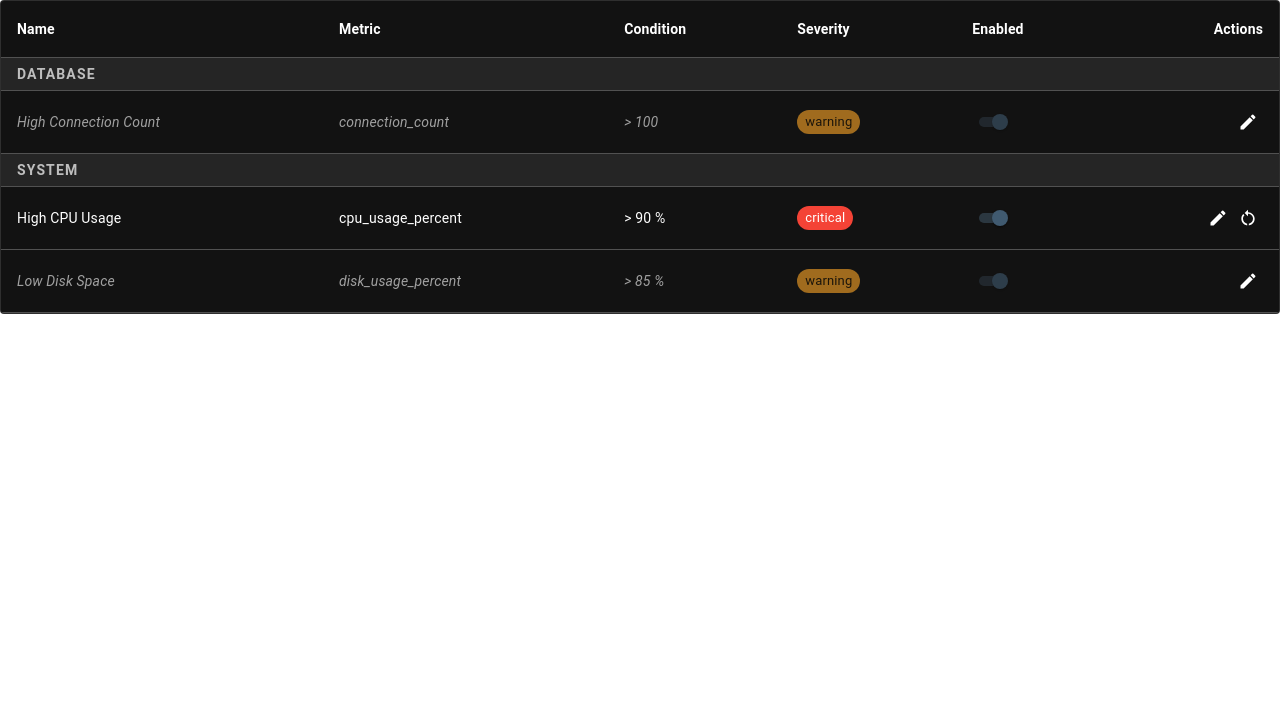
Test: AlertOverridesPanel › edit button opens dialog with pre-populated values
Check: the text "High CPU Usage" is shown, box [1, 186, 323, 250]
Click the button named "edit override" in the row of "High CPU Usage": [1218, 218] box [1203, 203, 1233, 233]
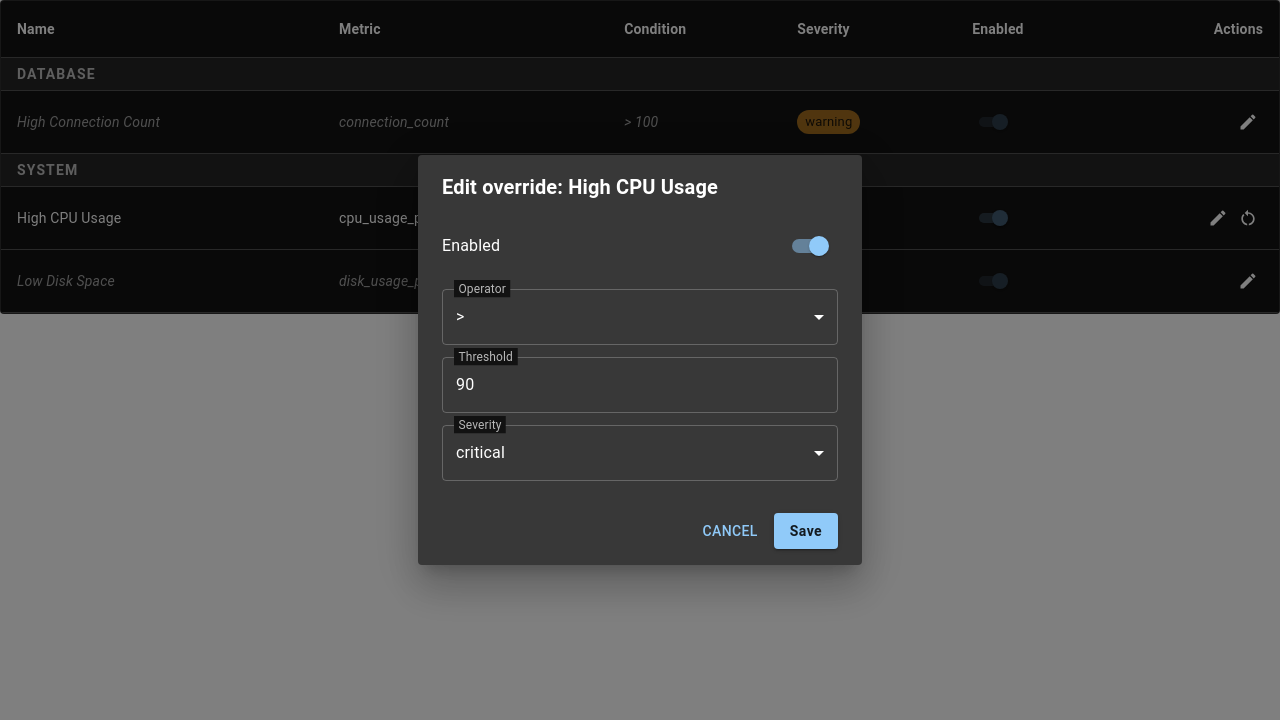
Check: the heading "Edit override: High CPU Usage" is shown, box [442, 175, 718, 199]
Check: the number field labelled "Threshold" holds "90", box [442, 357, 838, 413]
